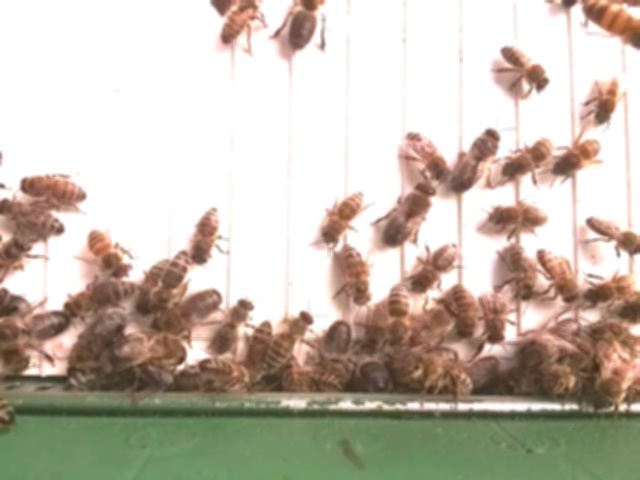Drone: (378, 180, 438, 248), (149, 287, 228, 338), (450, 123, 502, 195), (0, 303, 74, 352)
Worker: (0, 194, 70, 241), (63, 275, 138, 315), (581, 210, 640, 259), (270, 307, 315, 370), (496, 44, 552, 94), (320, 187, 366, 246), (500, 135, 556, 183), (536, 248, 581, 307), (410, 240, 461, 291), (402, 128, 449, 182), (19, 172, 91, 207), (216, 294, 257, 355), (578, 270, 640, 309), (551, 135, 605, 179), (502, 240, 539, 304), (190, 203, 226, 268), (486, 199, 552, 234), (86, 223, 128, 278), (154, 247, 190, 311), (338, 242, 372, 307), (482, 277, 512, 350), (385, 279, 413, 355), (446, 280, 478, 343), (592, 70, 626, 127)
